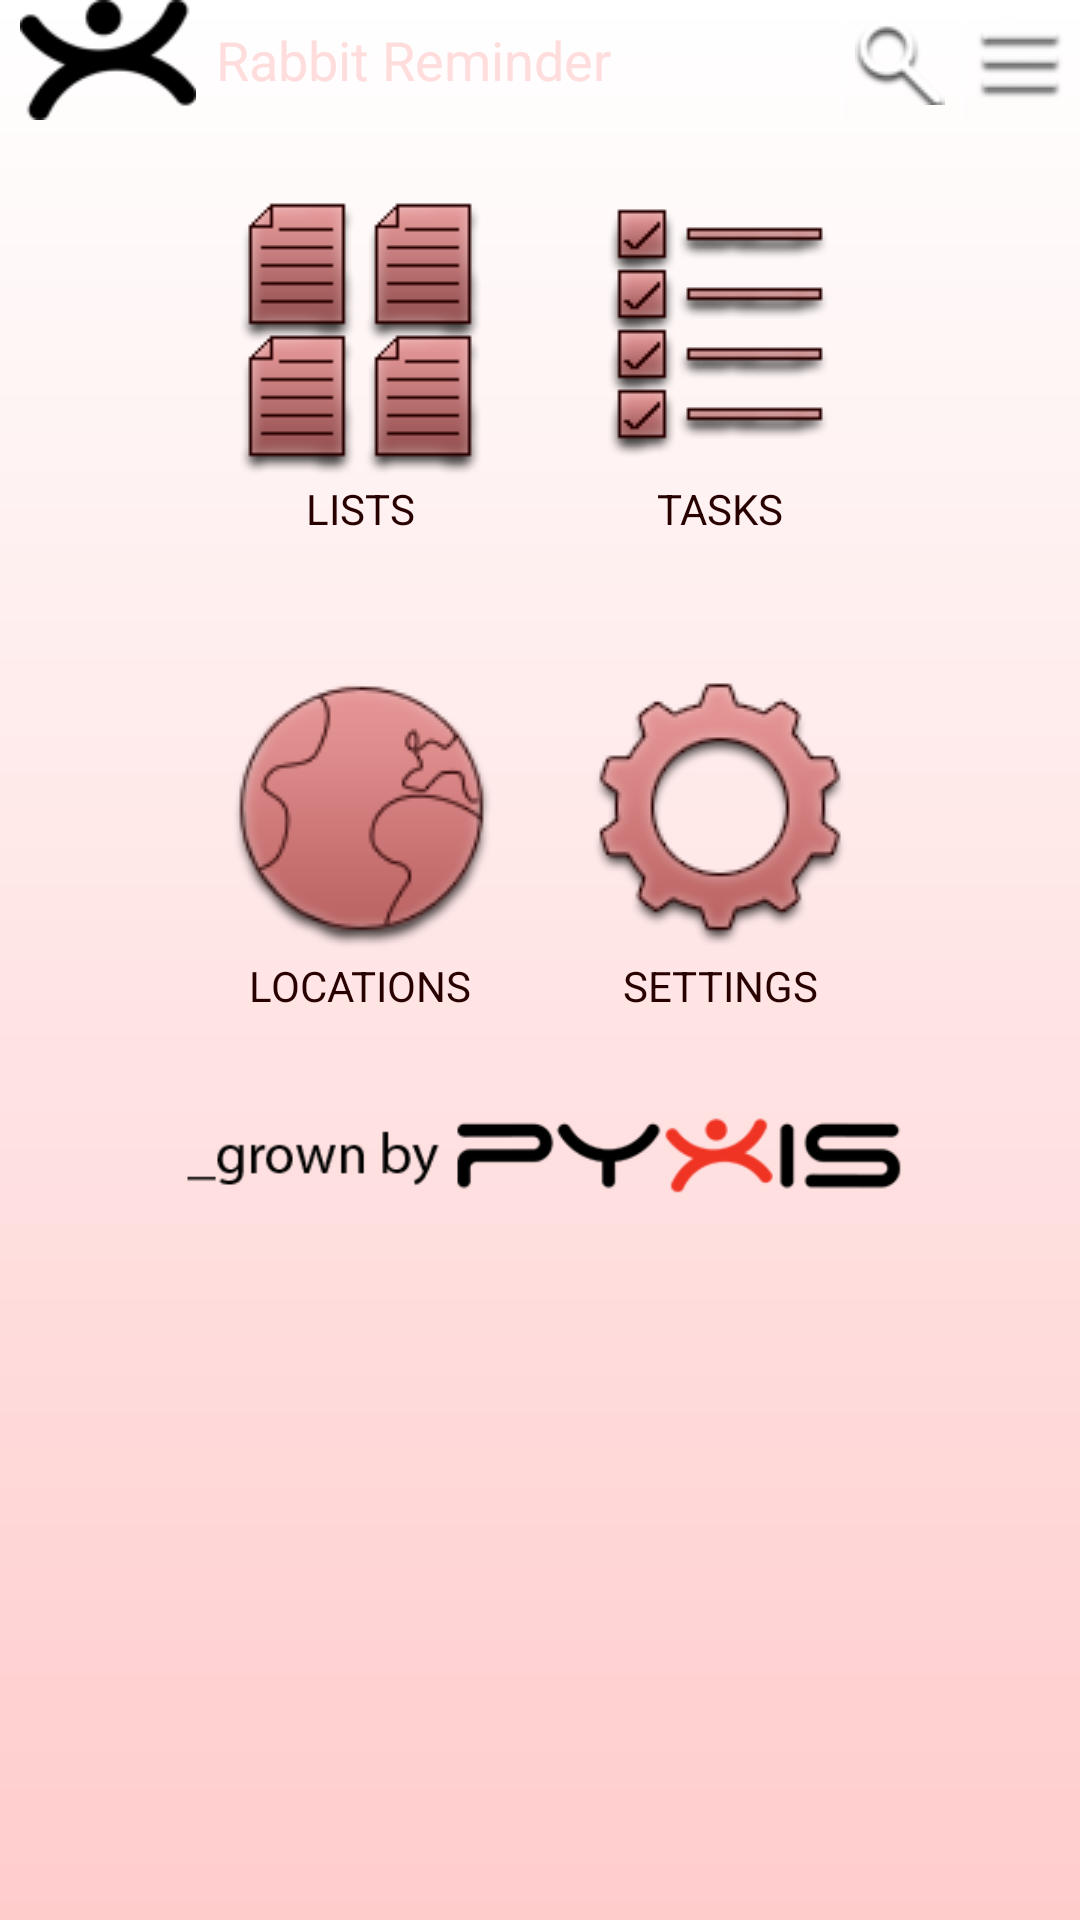

Screen size 1080px×1920px. Icon name, then its center in pixels as [x,y]:
searchbutton: [900,65]
